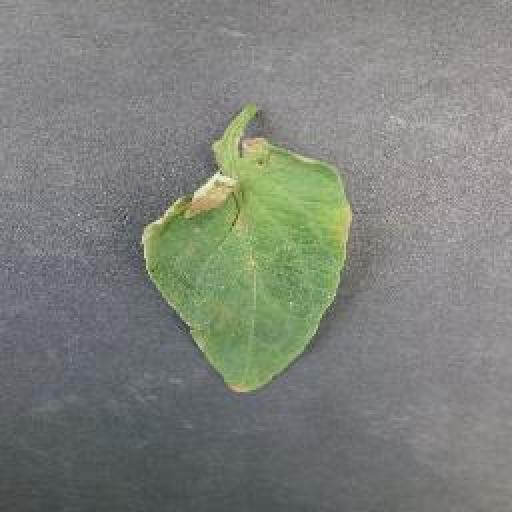disease_tomato: (138, 133, 354, 400)
